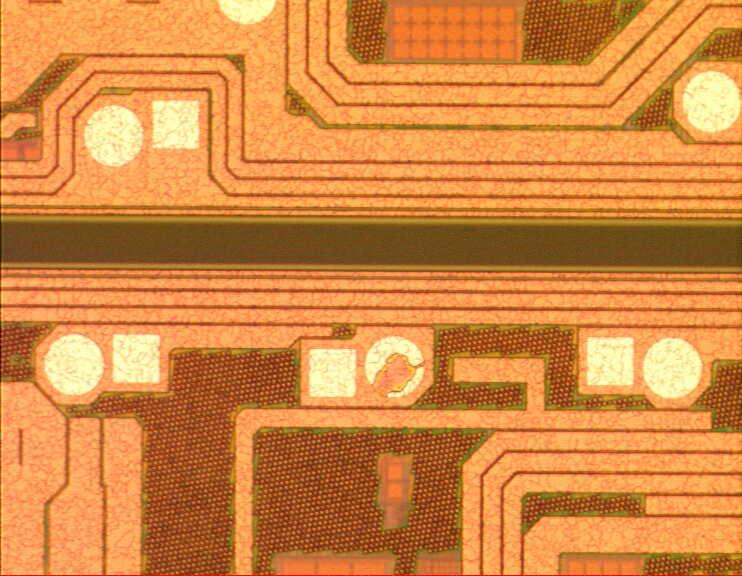BLOCK ETCH: (364, 338, 428, 402)
